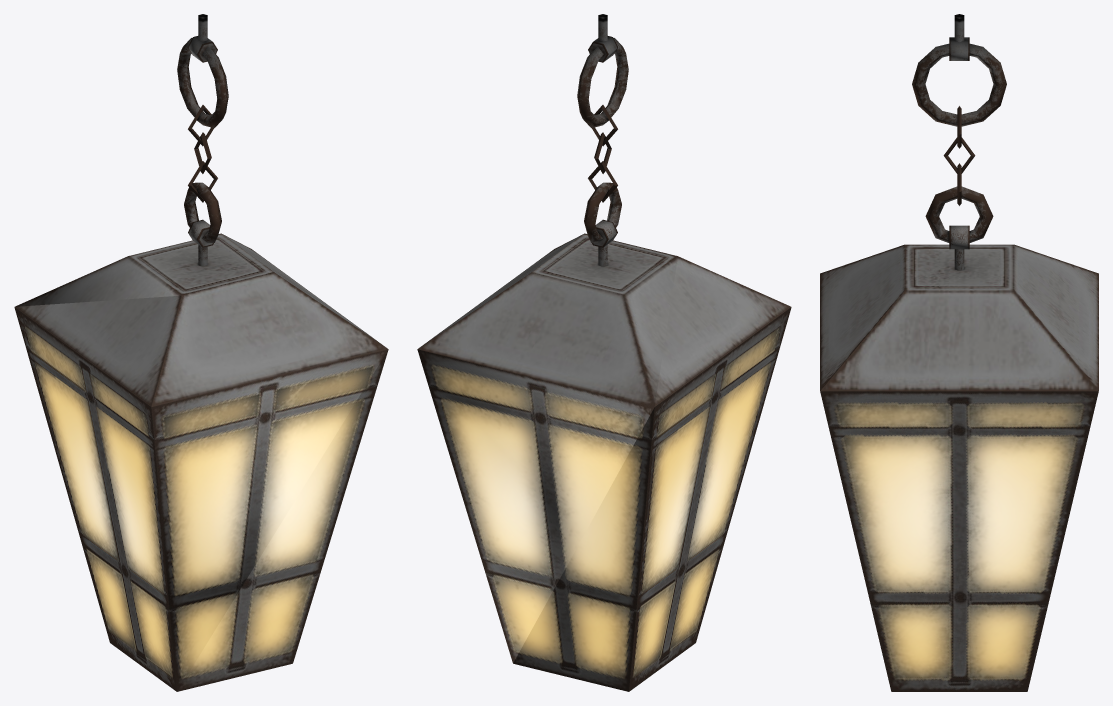
File: street_light.glb
3 views of the same model, side by side, from view 1: azimuth 30°, elevation 25°; view 2: azimuth 150°, elevation 25°; view 3: azimuth 270°, elevation 25° (orthographic).
Parts seen in each view (by area): view 1: Lantern; view 2: Lantern; view 3: Lantern.
Part boxes in pixels (x1=…): Lantern: x1=14, y1=14, x2=388, y2=691; Lantern: x1=417, y1=14, x2=791, y2=691; Lantern: x1=820, y1=14, x2=1098, y2=691.
Bounding box in the file's own units: 1 × 2.57 × 1.
Materials: 1 (1 with a texture image).
